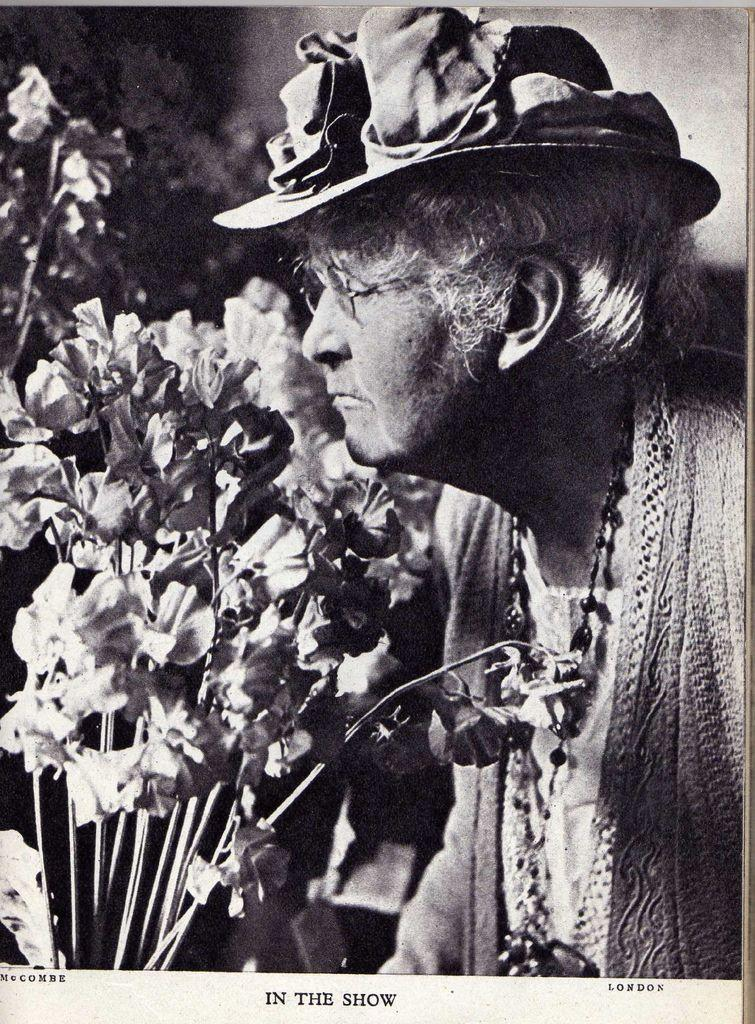Hat: (211, 8, 720, 232)
